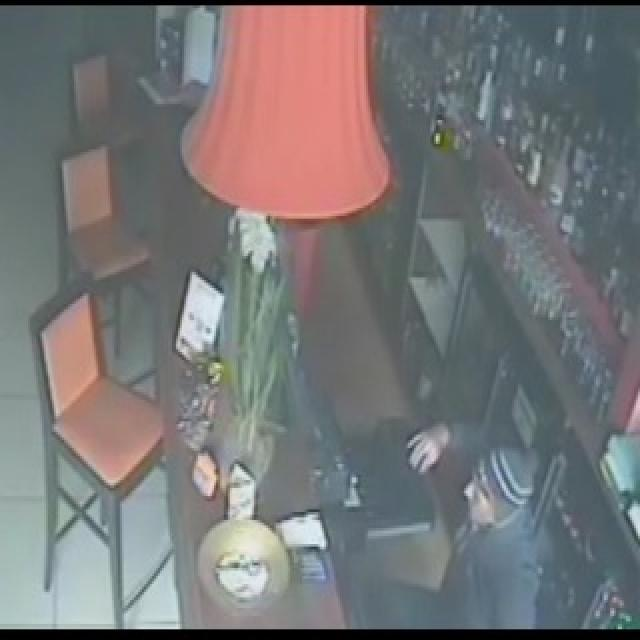thief: (441, 438, 542, 602)
